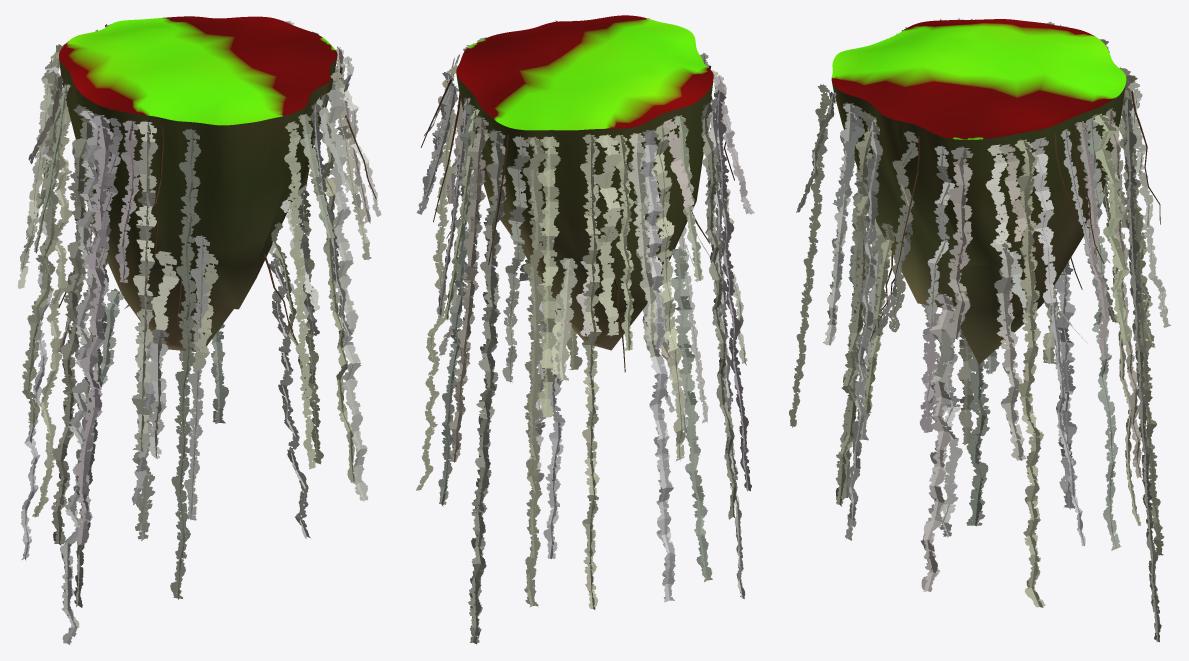
Rendered from SM_H06_Floater01.fbx.
3 renders of one model, left to right at view 1: azimuth 30°, elevation 25°; view 2: azimuth 150°, elevation 25°; view 3: azimuth 270°, elevation 25°, orthographic. The views are drawn at different scales.
Visible parts, largest first — view 1: SM_H06_Floater01_Ivy, SM_H06_Floater01; view 2: SM_H06_Floater01_Ivy, SM_H06_Floater01; view 3: SM_H06_Floater01_Ivy, SM_H06_Floater01.
Boxes of the visible parts, x1,y1,x2,y2 form: SM_H06_Floater01_Ivy: (17,20,381,644); SM_H06_Floater01: (59,16,337,351); SM_H06_Floater01_Ivy: (416,18,754,644); SM_H06_Floater01: (456,15,713,350); SM_H06_Floater01_Ivy: (789,18,1171,642); SM_H06_Floater01: (831,19,1126,364).
Bounding box in the file's own units: 18.56 × 30.73 × 19.23.
